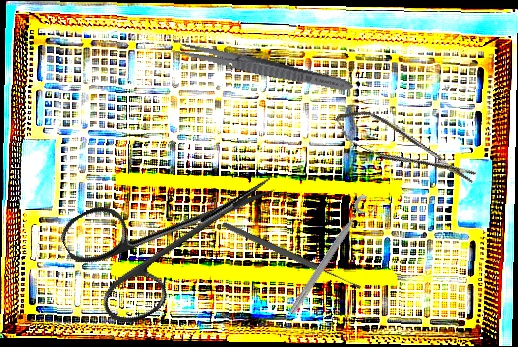Dressing Forceps: (170, 38, 355, 97)
Fixation Ring: (285, 192, 380, 322)
Iris Scissors: (55, 128, 300, 335)
Micro Scissor: (329, 99, 481, 199)
Surgical Spoon: (221, 220, 362, 292)
